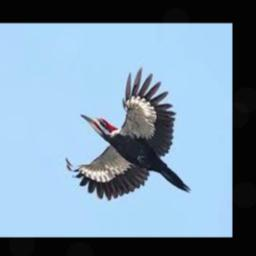Woodpecker: (65, 66, 190, 199)
